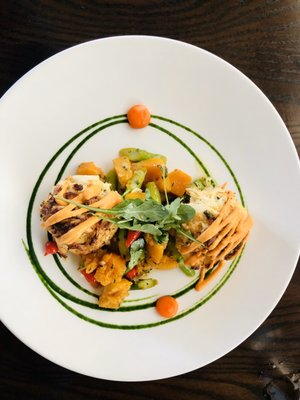curry: (1, 32, 300, 399)
pizza: (166, 169, 193, 196), (127, 104, 151, 129), (156, 296, 179, 318)
